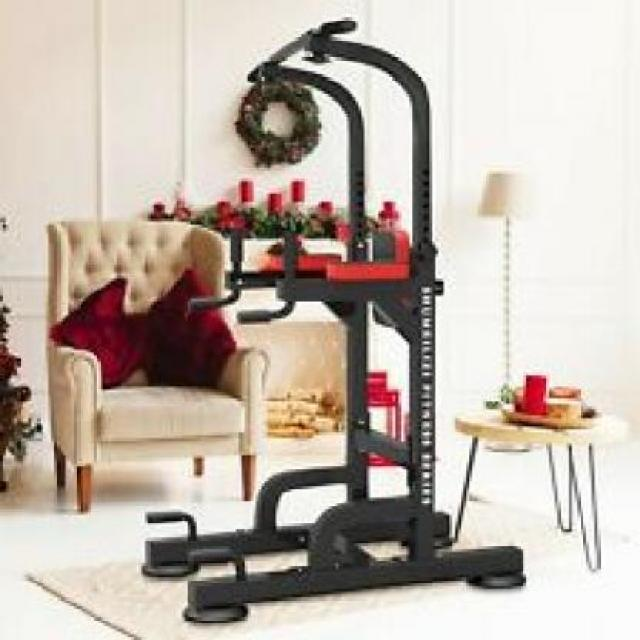chinning dipping: (186, 19, 526, 606)
